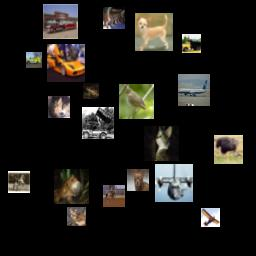airplane: (155, 164, 193, 202), (178, 74, 210, 106), (201, 208, 220, 227)
automobile: (47, 44, 85, 82)
bird: (119, 84, 154, 119), (214, 135, 243, 164)
cat: (144, 126, 179, 161), (103, 7, 125, 29), (48, 96, 70, 118), (67, 207, 86, 226)
dog: (135, 13, 173, 51), (127, 169, 149, 191)
frog: (54, 169, 89, 204), (83, 83, 99, 99)
truck: (43, 4, 78, 39), (82, 107, 114, 139), (182, 34, 201, 53), (26, 52, 42, 68)
